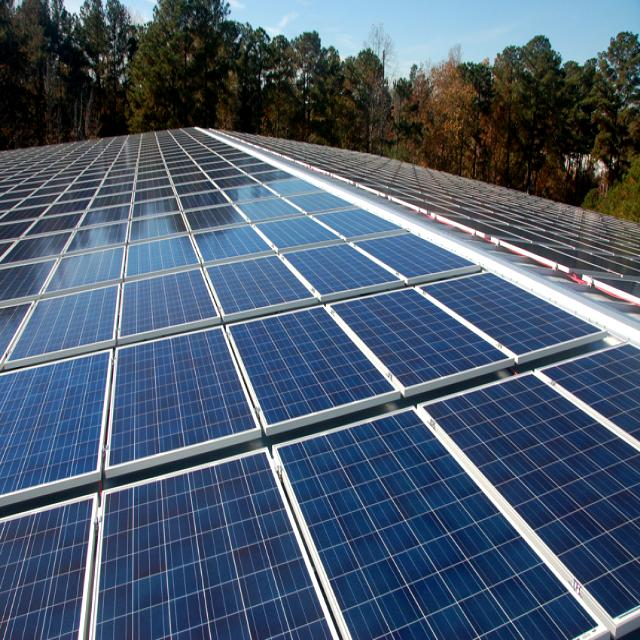crack: (240, 408, 640, 640), (414, 364, 640, 640), (86, 436, 347, 640), (200, 284, 398, 450), (110, 306, 262, 494), (100, 337, 277, 478), (103, 270, 254, 358)
